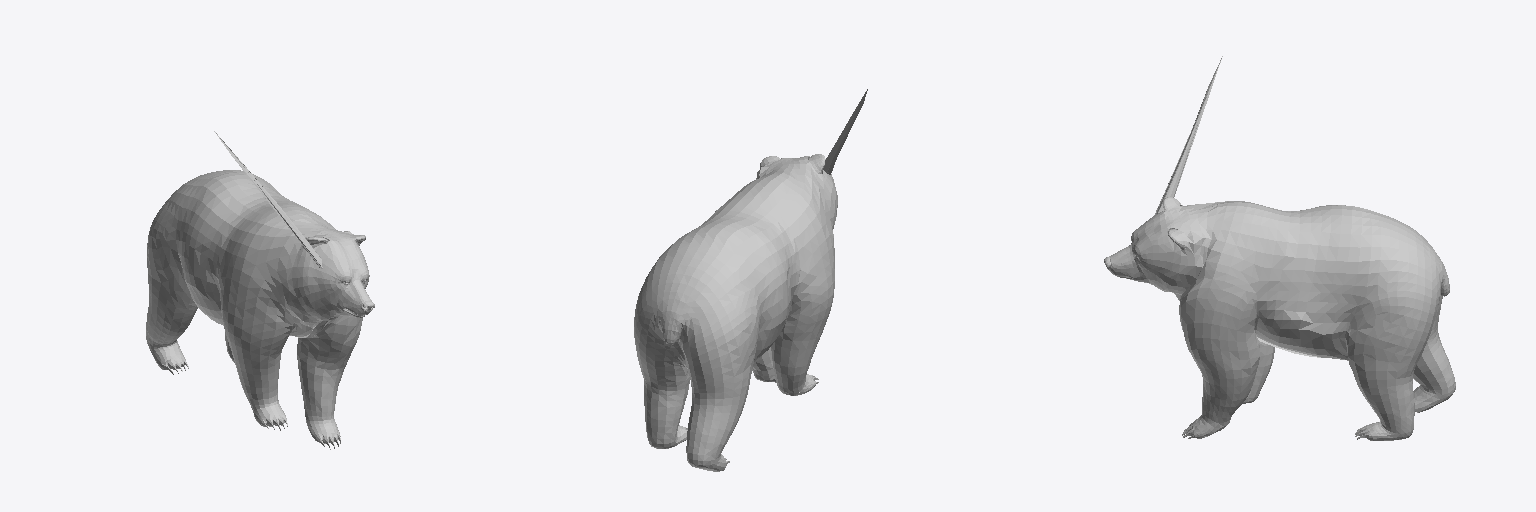
File: Bear0108.obj
3 renders of one model, left to right at view 1: azimuth 30°, elevation 25°; view 2: azimuth 150°, elevation 25°; view 3: azimuth 270°, elevation 25°, orthographic.
Parts seen in each view (by area): view 1: Object_237; view 2: Object_237; view 3: Object_237.
Part boxes in pixels (x1,y1,x2,y2): Object_237: (146,131,374,449); Object_237: (634,89,867,471); Object_237: (1104,56,1455,440).
Bounding box in the file's own units: 2.33 × 5.11 × 4.92.